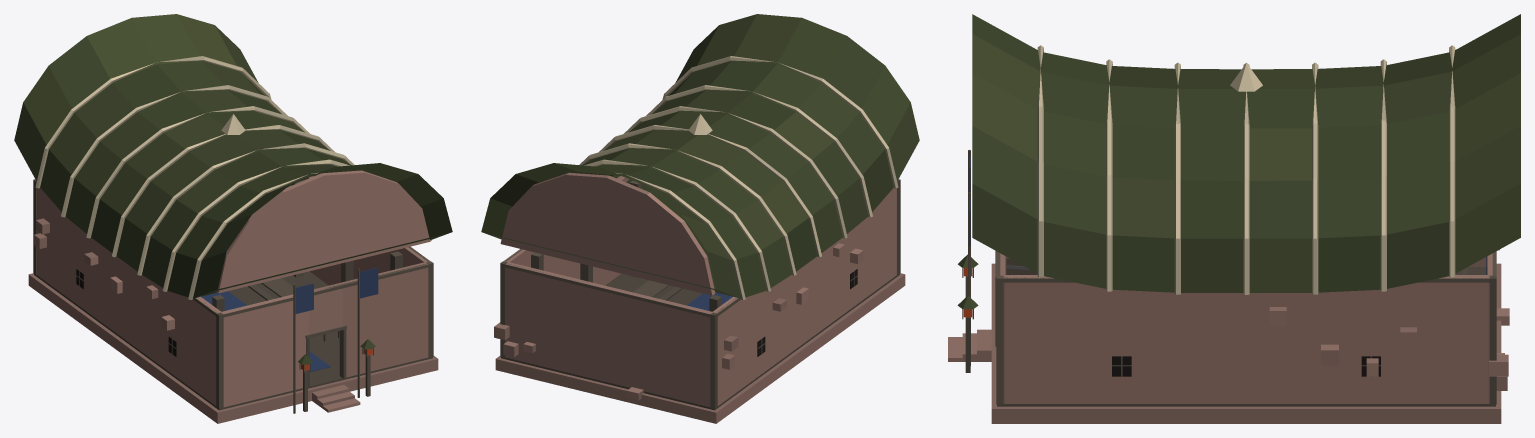
File: walk_reef_hall.glb
3 renders of one model, left to right at view 1: azimuth 30°, elevation 25°; view 2: azimuth 150°, elevation 25°; view 3: azimuth 270°, elevation 25°, orthographic. The views are drawn at different scales.
Visible parts, largest first — view 1: walk_reef_hall_roof, walk_reef_hall; view 2: walk_reef_hall_roof, walk_reef_hall; view 3: walk_reef_hall_roof, walk_reef_hall.
Part boxes in pixels (x1=…): walk_reef_hall_roof: x1=14, y1=14, x2=452, y2=299; walk_reef_hall: x1=28, y1=176, x2=438, y2=423; walk_reef_hall_roof: x1=481, y1=14, x2=919, y2=299; walk_reef_hall: x1=494, y1=176, x2=905, y2=423; walk_reef_hall_roof: x1=972, y1=14, x2=1520, y2=294; walk_reef_hall: x1=948, y1=150, x2=1509, y2=423.
Size of what is drawn, in the model's own units: 13.65 by 12.64 by 20.67.
Materials: 2 (2 with a texture image).
